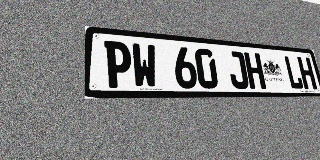0: (194, 48, 219, 89)
6: (173, 46, 198, 88)
H: (244, 52, 266, 89), (297, 57, 317, 89)
J: (226, 51, 250, 89)
L: (283, 55, 304, 89)
P: (104, 40, 132, 88)
W: (131, 43, 158, 88)
